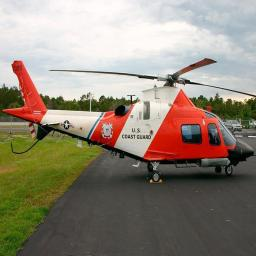helicopter: (3, 61, 256, 180)
